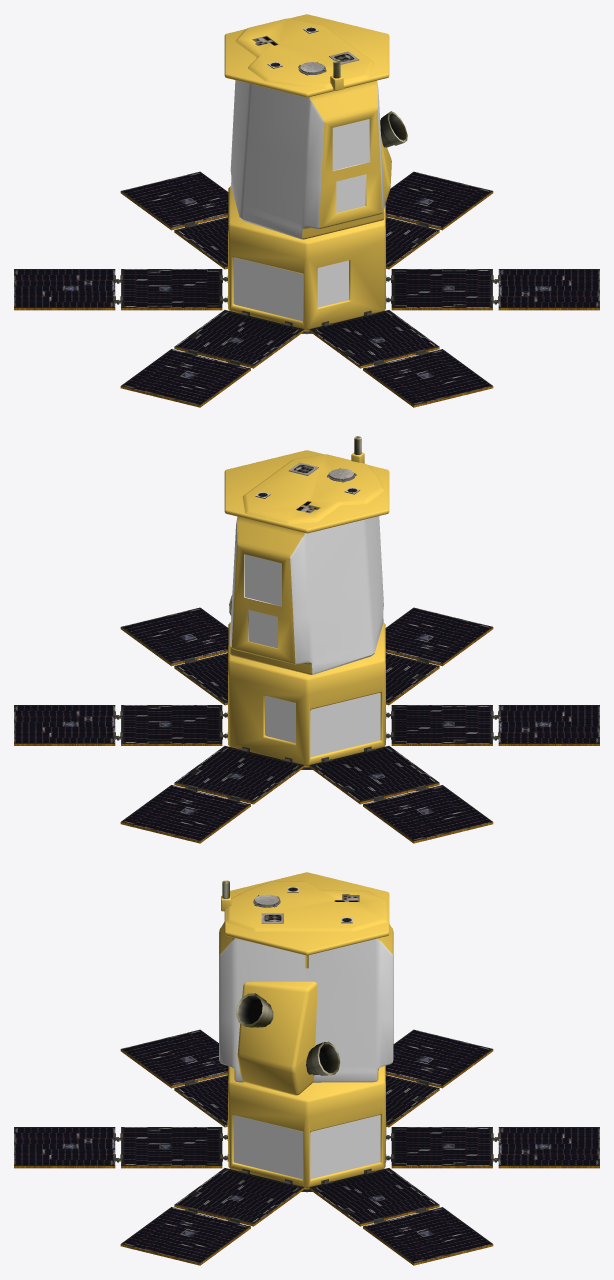
Rendered from sorce.glb.
The picture shows the model from 3 angles, top to bottom: view 1: azimuth 30°, elevation 25°; view 2: azimuth 150°, elevation 25°; view 3: azimuth 270°, elevation 25°; orthographic projection.
Parts seen in each view (by area): view 1: instruments, BUS, reflective_wrapping; view 2: instruments, BUS, reflective_wrapping; view 3: instruments, BUS, reflective_wrapping.
Boxes of the visible parts, x1,y1,x2,y2 form: instruments: (14,26,599,407); BUS: (224,14,391,331); reflective_wrapping: (233,119,369,321); instruments: (14,436,599,843); BUS: (224,450,389,767); reflective_wrapping: (245,554,380,756); instruments: (14,880,599,1265); BUS: (219,872,393,1189); reflective_wrapping: (233,1115,380,1179).
Size of the model in its own units: 3.18 by 1.77 by 3.36.
Materials: 8 (4 with a texture image).
